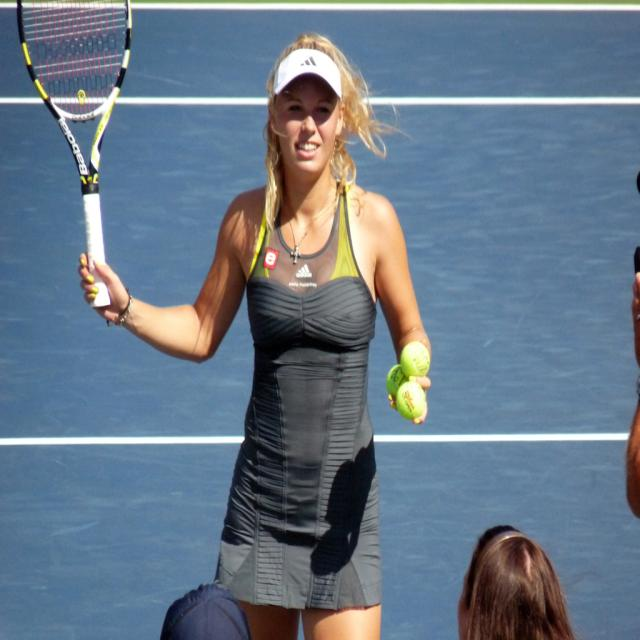Tennis ball: (394, 384, 427, 420), (401, 340, 429, 378), (384, 365, 406, 397)
